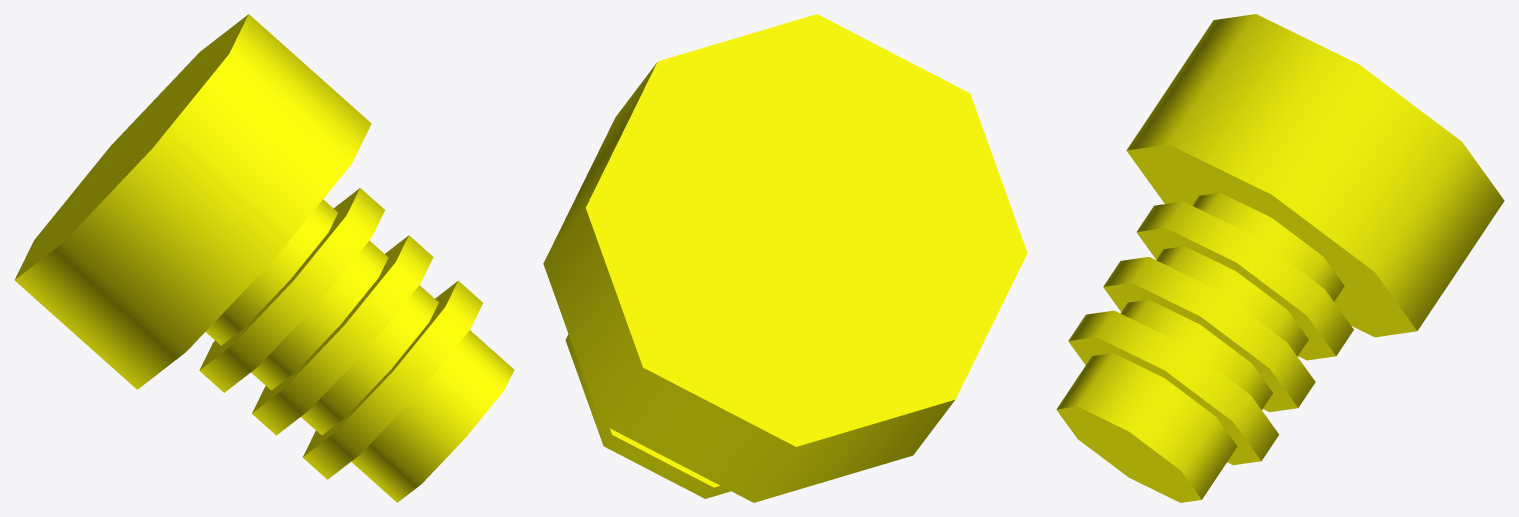
3 views of the same model, side by side, from view 1: azimuth 30°, elevation 25°; view 2: azimuth 150°, elevation 25°; view 3: azimuth 270°, elevation 25° (orthographic). The views are drawn at different scales.
Visible parts, largest first — view 1: Joint_0_Object_0; view 2: Joint_0_Object_0; view 3: Joint_0_Object_0.
Boxes of the visible parts, x1=… form: Joint_0_Object_0: x1=14, y1=14, x2=514, y2=502; Joint_0_Object_0: x1=543, y1=14, x2=1027, y2=502; Joint_0_Object_0: x1=1056, y1=14, x2=1504, y2=502.
Size of the model in its own units: 270 by 289 by 278.
